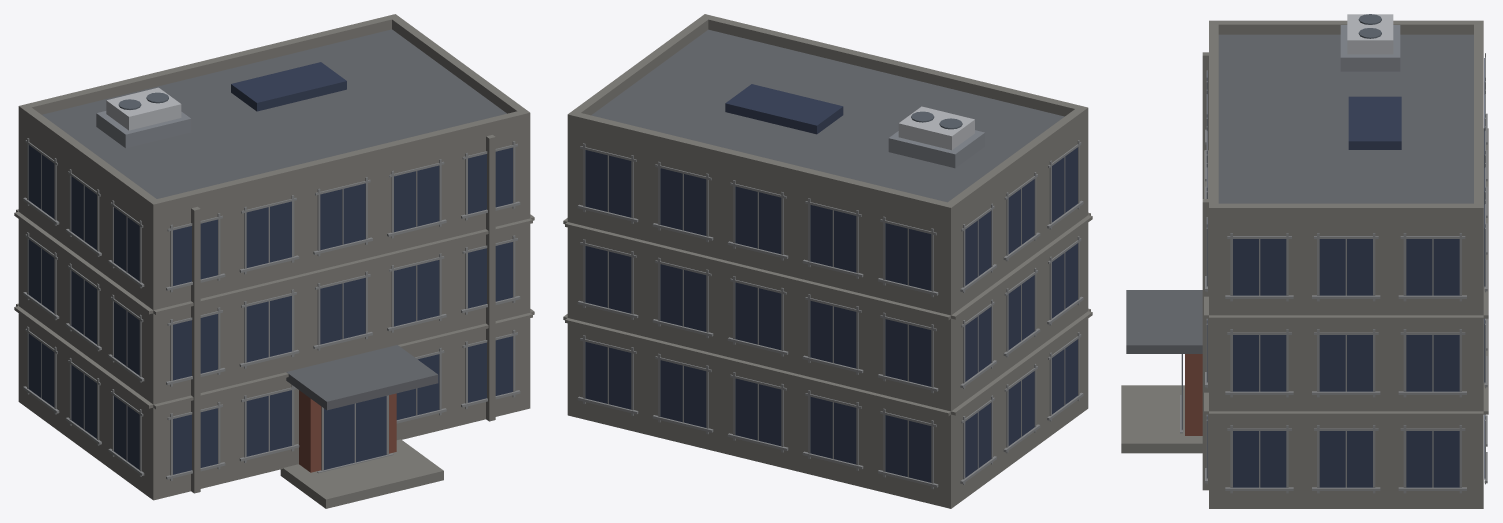
File: civic_long_05_lvl1.glb
The picture shows the model from 3 angles, left to right: view 1: azimuth 30°, elevation 25°; view 2: azimuth 150°, elevation 25°; view 3: azimuth 270°, elevation 25°; orthographic projection.
Parts seen in each view (by area): view 1: civic_long_05; view 2: civic_long_05; view 3: civic_long_05.
Boxes of the visible parts, x1=… form: civic_long_05: x1=14, y1=14, x2=534, y2=508; civic_long_05: x1=563, y1=14, x2=1092, y2=508; civic_long_05: x1=1121, y1=14, x2=1488, y2=508.
Size of the model in its own units: 1 by 0.8262 by 0.8103.
